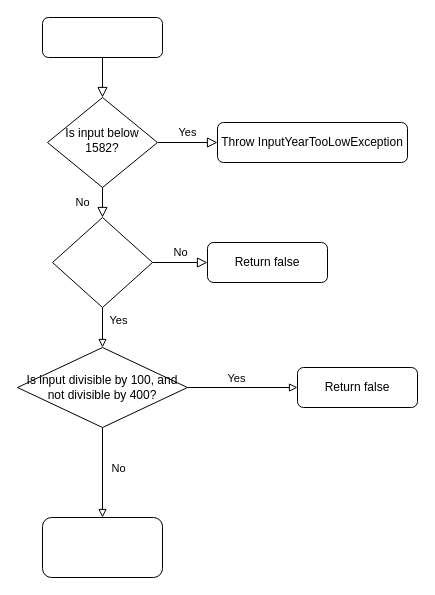
This 435x595 diagram has some shape labels left out. The box of each missing label's shape, as (x1, y1, x2, y2) in pixels:
Input integer: (42, 16, 162, 58)
Is input divisible by 4?: (52, 216, 152, 308)
Return true: (42, 516, 162, 578)
